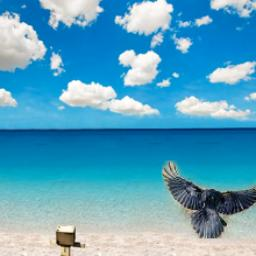Crow: (162, 162, 256, 240)
